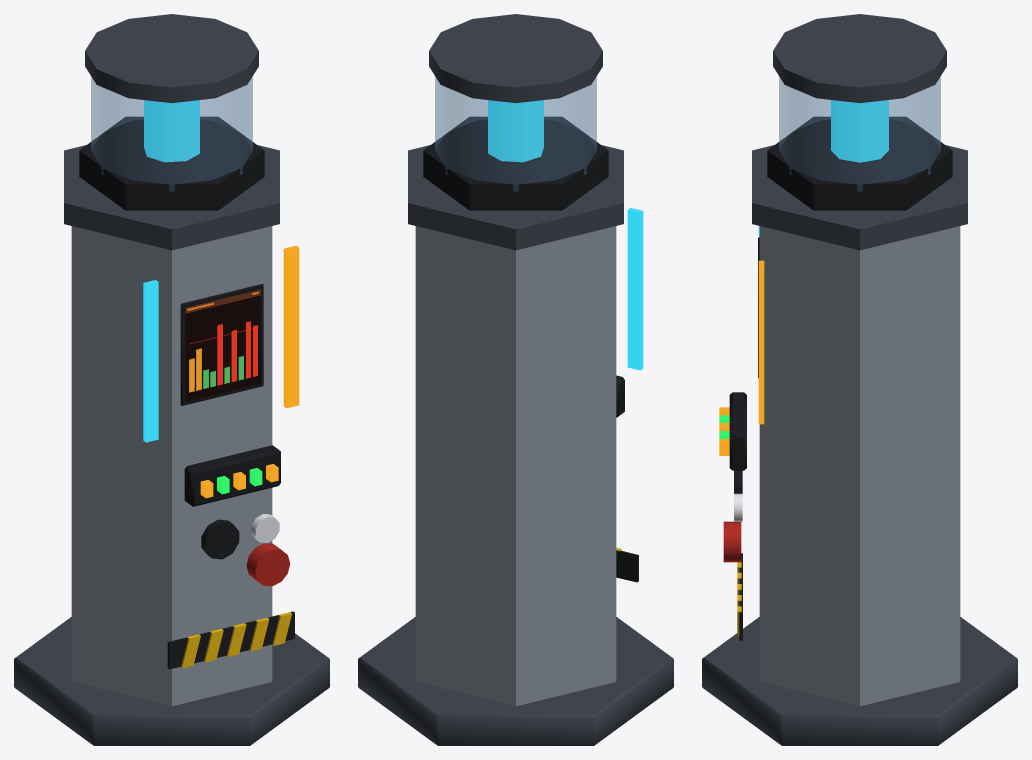
File: reactor_reactor_control_pillar.glb
3 views of the same model, side by side, from view 1: azimuth 30°, elevation 25°; view 2: azimuth 150°, elevation 25°; view 3: azimuth 270°, elevation 25° (orthographic).
Visible parts, largest first — view 1: reactor_reactor_control_pillar; view 2: reactor_reactor_control_pillar; view 3: reactor_reactor_control_pillar.
Part boxes in pixels (bbox=[...]): reactor_reactor_control_pillar: bbox=[14, 14, 329, 745]; reactor_reactor_control_pillar: bbox=[358, 14, 673, 745]; reactor_reactor_control_pillar: bbox=[702, 14, 1017, 745].
Size of the model in its own units: 0.9526 by 2.43 by 1.09.
Materials: 11 (1 with a texture image).
